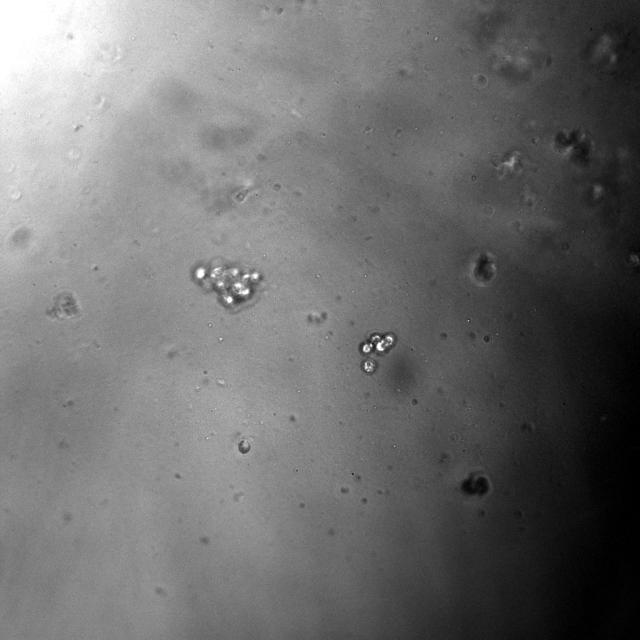organoid: (190, 257, 263, 312), (359, 331, 397, 355), (471, 251, 496, 284), (461, 472, 491, 496), (361, 358, 377, 374), (238, 439, 251, 454)
